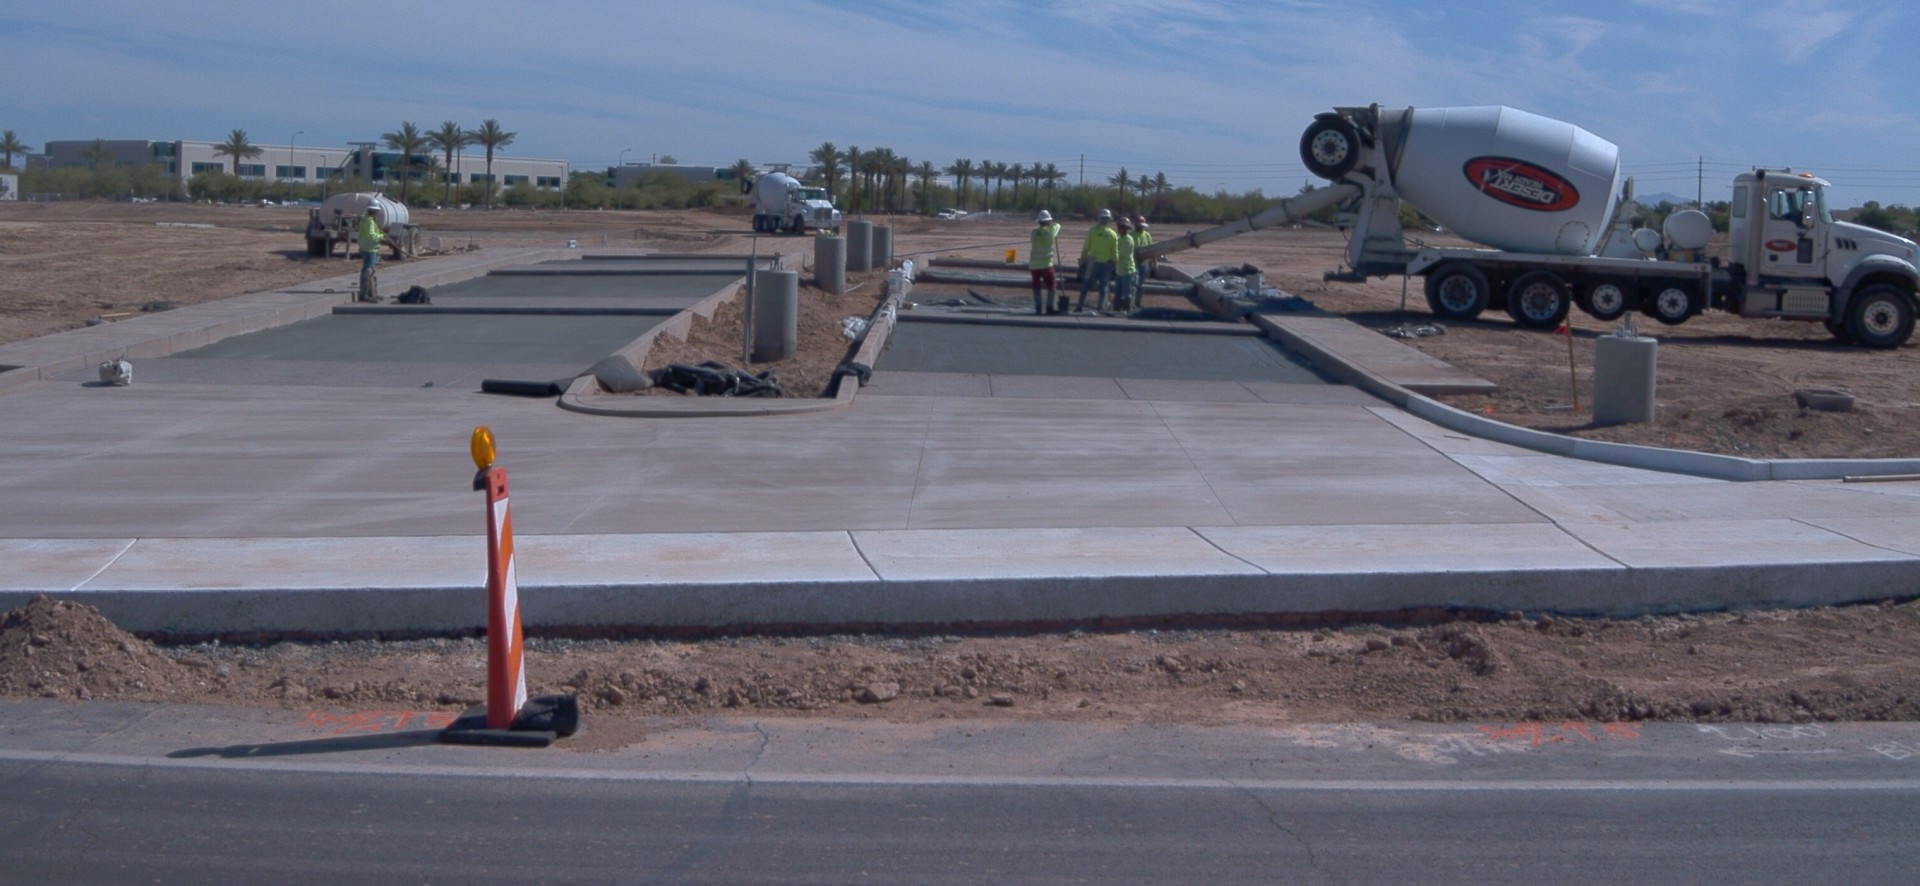TYPE_PEDESTRIAN: (1067, 207, 1122, 319), (1025, 205, 1065, 318), (352, 198, 391, 302), (1125, 213, 1156, 314), (1116, 217, 1140, 319), (1085, 253, 1107, 287), (815, 228, 836, 237)
TYPE_VEHICLE: (1095, 100, 1920, 351), (302, 189, 423, 262), (747, 170, 840, 237), (939, 205, 972, 222)
